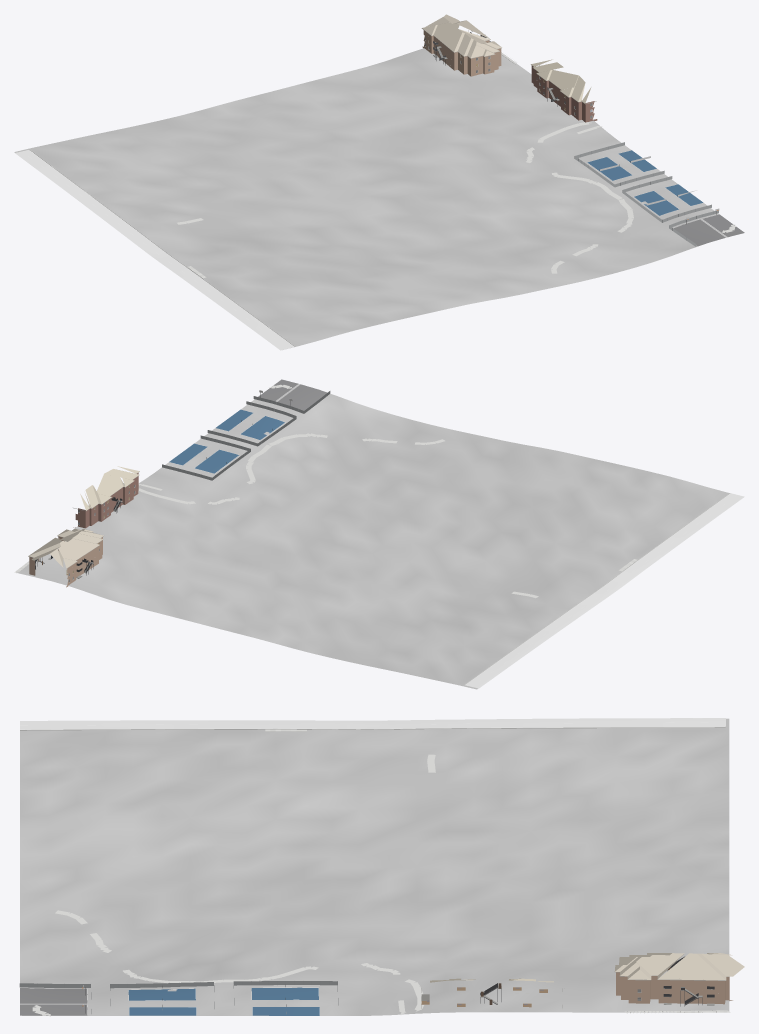
3 renders of one model, top to bottom at view 1: azimuth 30°, elevation 25°; view 2: azimuth 150°, elevation 25°; view 3: azimuth 270°, elevation 25°, orthographic. The views are drawn at different scales.
Visible parts, largest first — view 1: ground, asphalt, detail, roof, wall, chain, walk; view 2: ground, asphalt, detail, roof, wall, chain, walk; view 3: ground, asphalt, detail, roof, wall, walk, chain, curb, mark_w.
Boxes of the visible parts, <box> form: ground: <box>14,48,727,348</box>; asphalt: <box>15,150,294,350</box>; detail: <box>422,28,744,246</box>; roof: <box>422,14,591,103</box>; wall: <box>422,30,597,122</box>; chain: <box>575,142,718,246</box>; walk: <box>177,34,736,278</box>; ground: <box>16,384,729,689</box>; asphalt: <box>465,493,744,688</box>; detail: <box>28,379,327,582</box>; roof: <box>28,466,139,568</box>; wall: <box>29,473,138,587</box>; chain: <box>162,391,330,480</box>; walk: <box>14,384,637,598</box>; ground: <box>20,718,729,1015</box>; asphalt: <box>20,718,725,729</box>; detail: <box>20,967,728,1015</box>; roof: <box>430,953,744,982</box>; wall: <box>616,972,732,1004</box>; walk: <box>32,729,730,1016</box>; chain: <box>19,981,338,1013</box>; curb: <box>20,727,725,731</box>; mark_w: <box>19,722,725,1015</box>.
Size of the model in its own units: 254 by 20.52 by 258.
